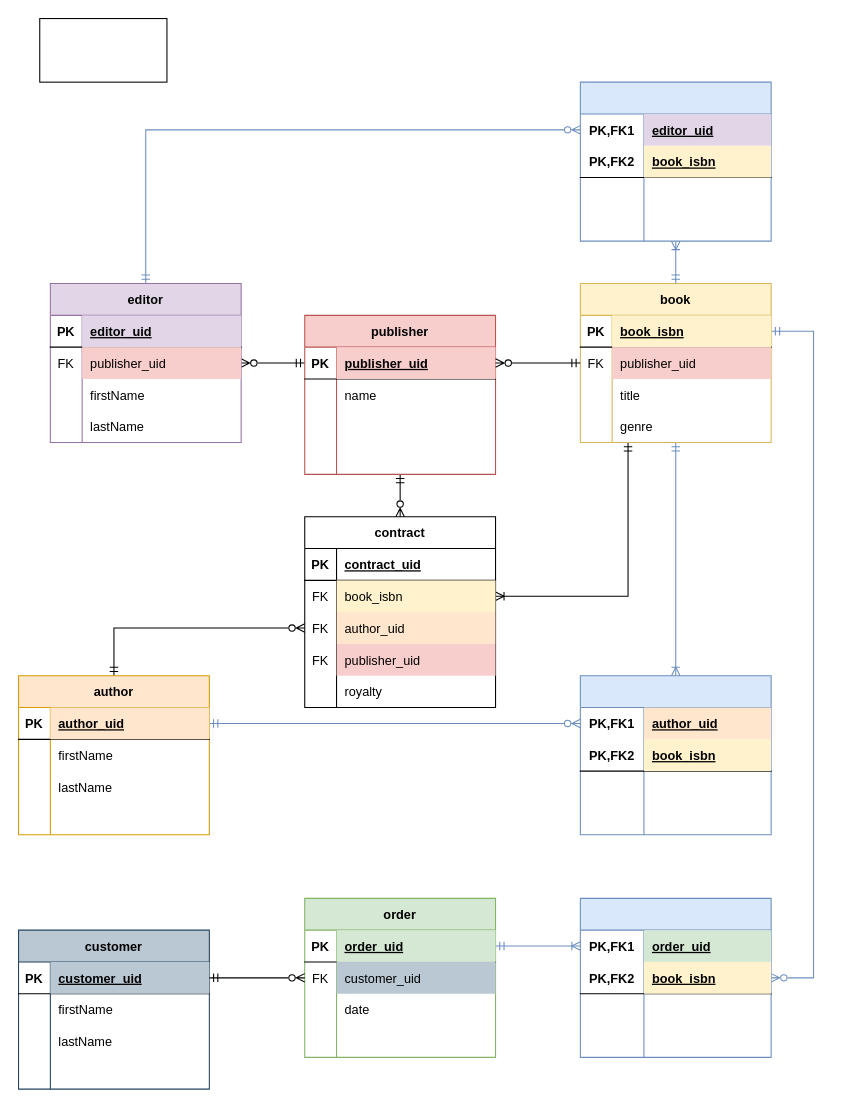
The diagram is 842 pixels wide and 1108 high, and some of its shapes have lost their labels. The box of each missing label's shape, as (x1, y1, x2, y2) in pixels:
junction: author_book: (579, 675, 771, 835)
junction: editor_book: (579, 81, 771, 241)
junction: order_book: (579, 897, 771, 1057)
PS3 with 1NF: (39, 17, 167, 82)
